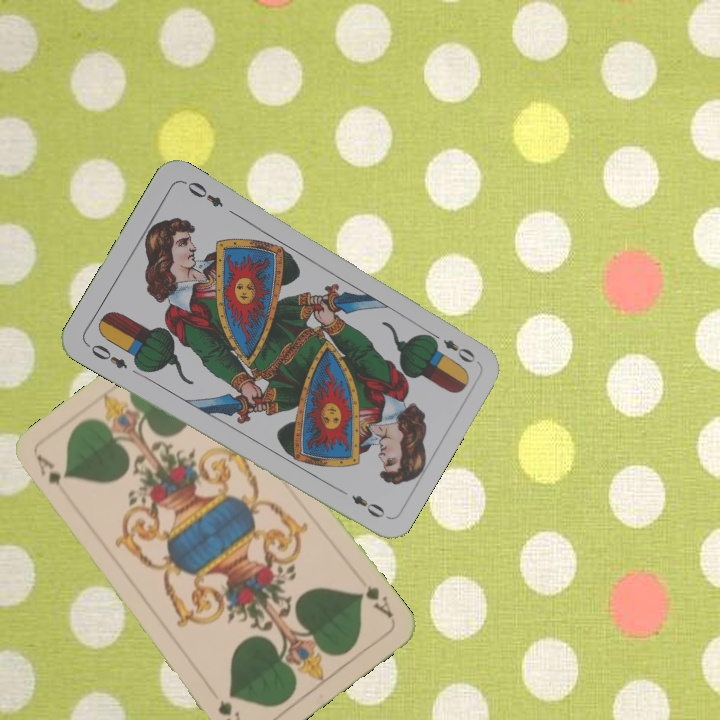EO: (425, 328, 478, 366), (82, 339, 130, 371)
GA: (32, 451, 73, 501), (354, 582, 396, 621)
